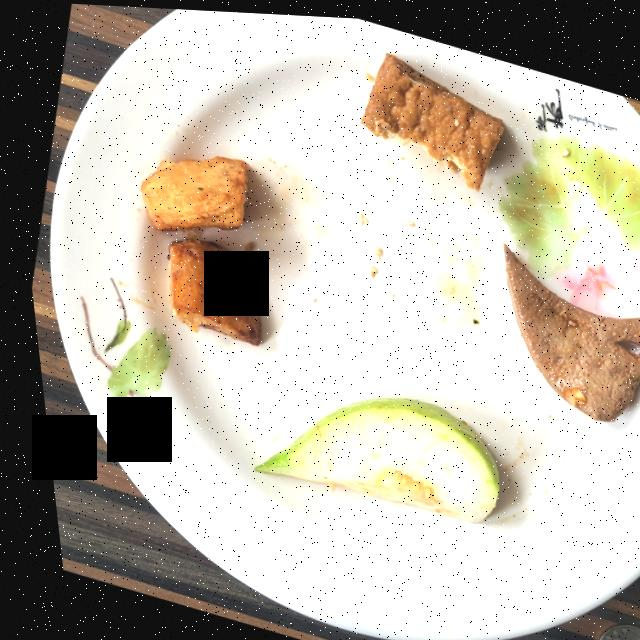coin: (580, 618, 632, 640)
egg tofu: (357, 49, 500, 185)
fried potato: (135, 154, 252, 343)
guava -sliced-: (243, 394, 487, 518)
pig liver: (497, 240, 640, 415)
